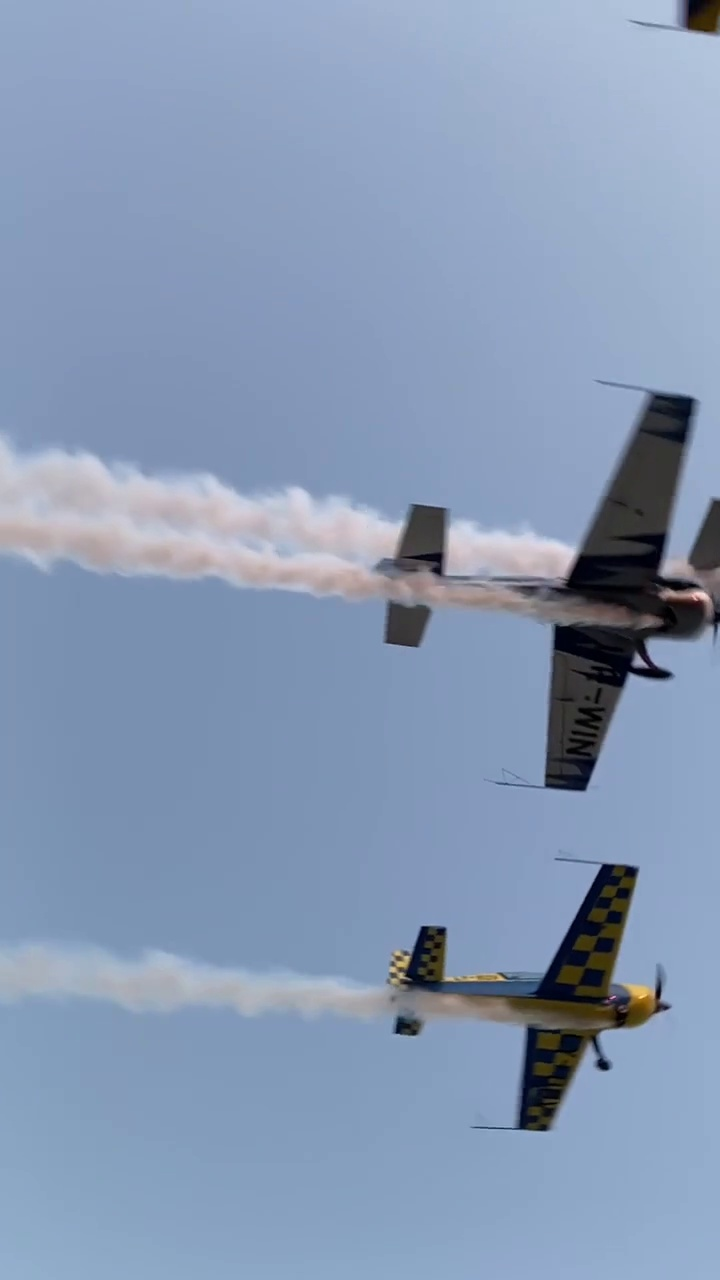plane: (378, 378, 719, 793), (388, 854, 669, 1134)
